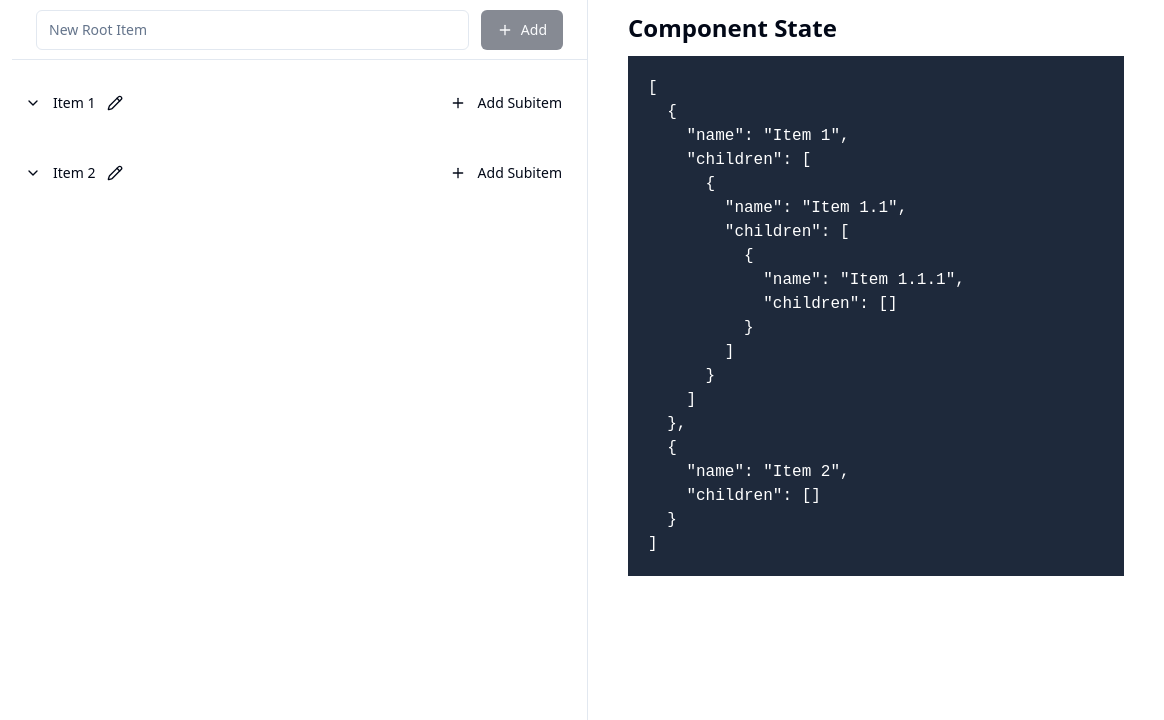
Scenario: App › Edit the name of the item
Click the 3rd icon.
click(115, 103)  # box [107,95,123,111]
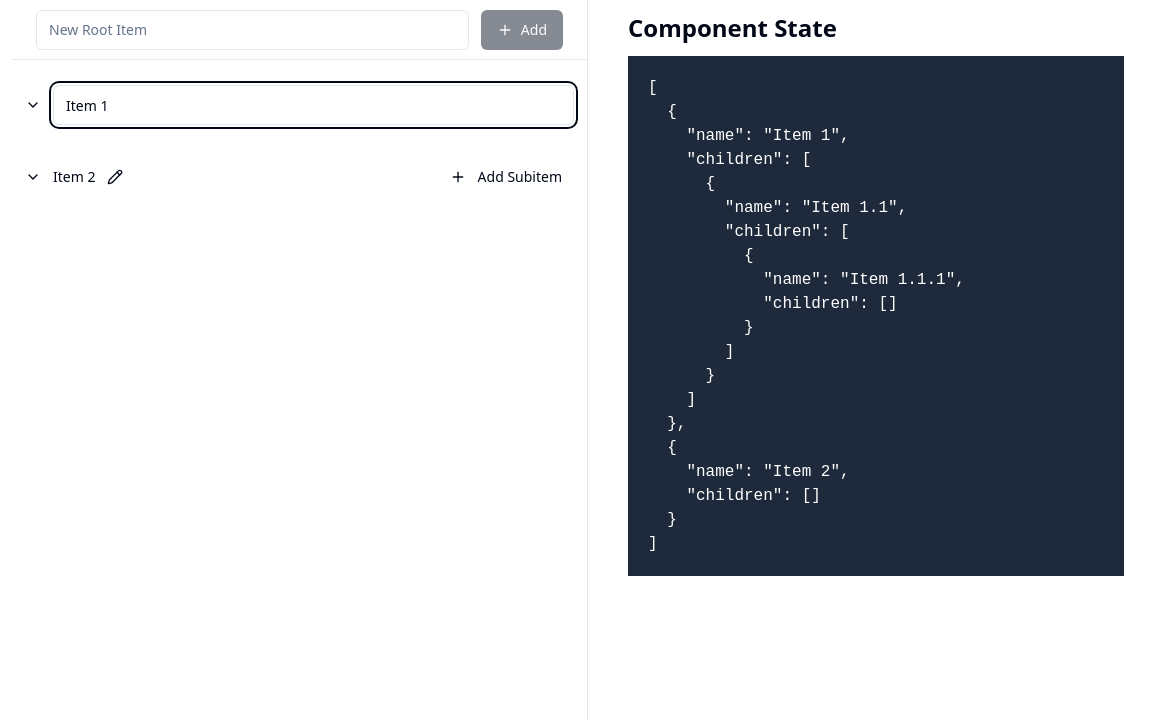
Replace the text in the field showing "Item 1" with "New Item 1" at (314, 105), box [53,85,574,125]
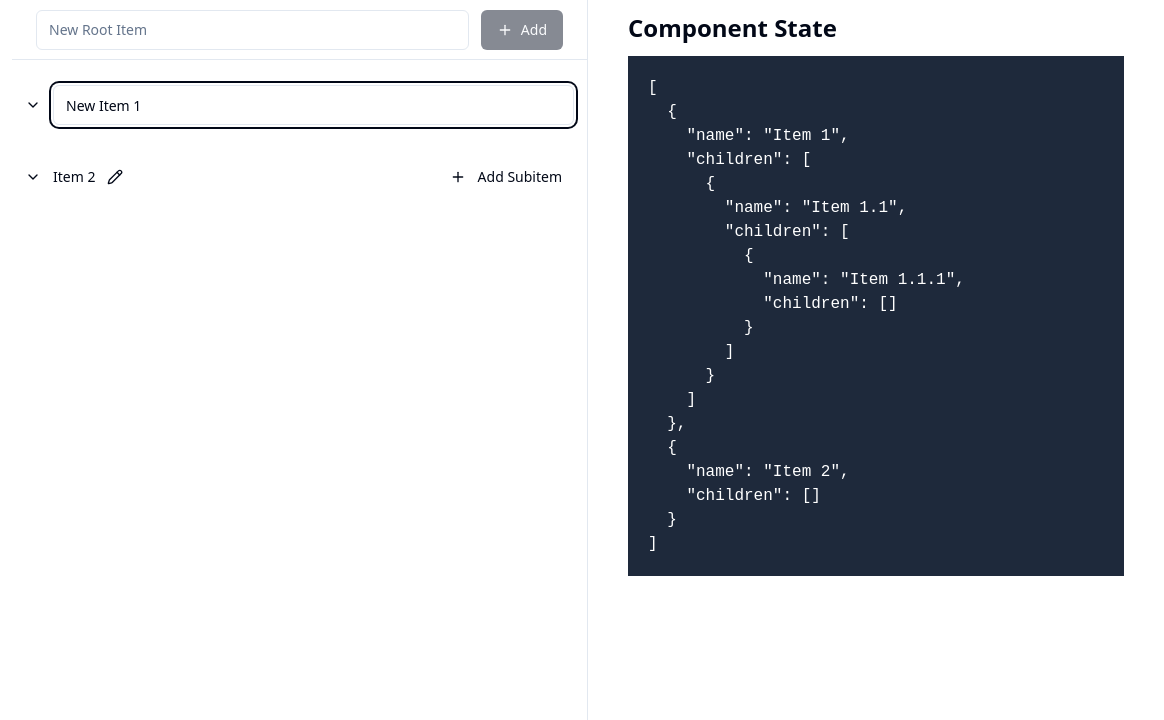
Leave the field showing "Item 1", box [53,85,574,125]
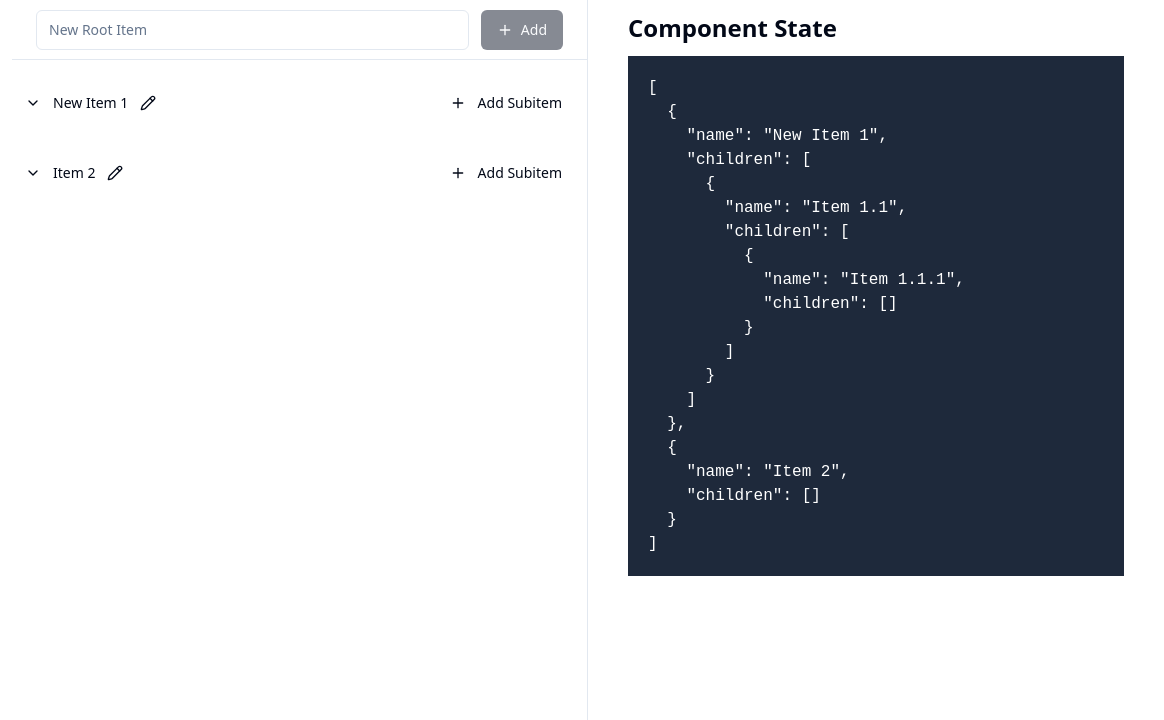
Expected: the text "New Item 1" is shown, [53,93,128,113]
